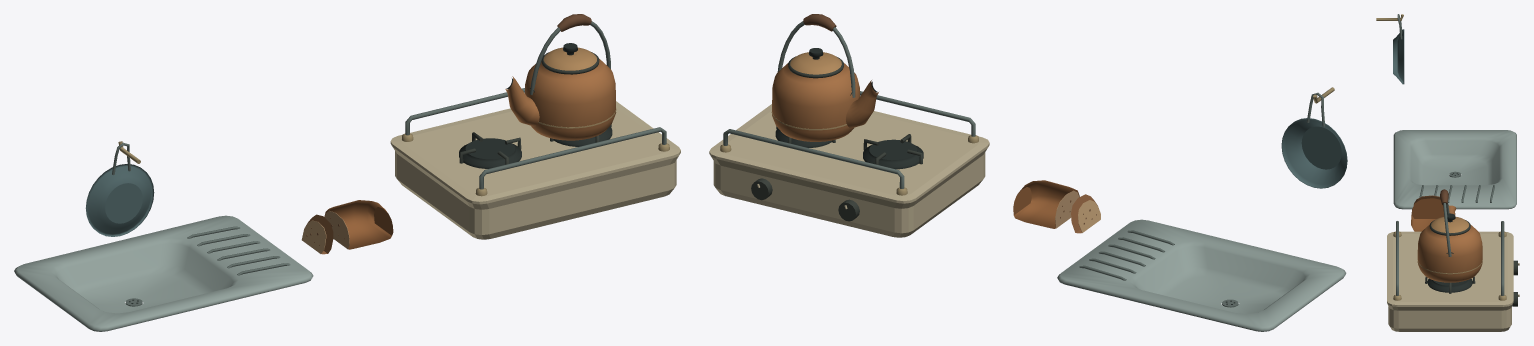
Rendered from galley-metalwork.glb.
3 renders of one model, left to right at view 1: azimuth 30°, elevation 25°; view 2: azimuth 150°, elevation 25°; view 3: azimuth 270°, elevation 25°, orthographic. The views are drawn at different scales.
Visible parts, largest first — view 1: galley metalwork; view 2: galley metalwork; view 3: galley metalwork.
Boxes of the visible parts, box(x1,y1,x2,y2) form: galley metalwork: box(14, 14, 680, 331); galley metalwork: box(709, 14, 1347, 331); galley metalwork: box(1376, 14, 1519, 331).
Size of the model in its own units: 1.87 by 0.6139 by 0.555.
